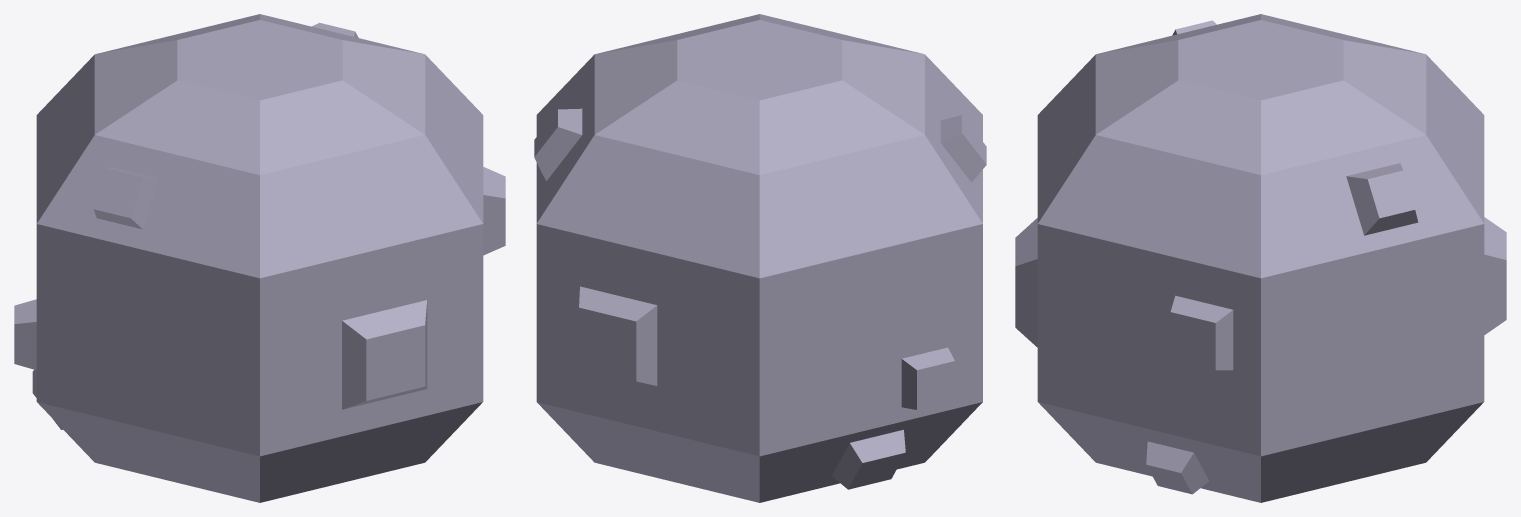
File: meteor_detailed.glb
3 views of the same model, side by side, from view 1: azimuth 30°, elevation 25°; view 2: azimuth 150°, elevation 25°; view 3: azimuth 270°, elevation 25° (orthographic).
Parts seen in each view (by area): view 1: meteor_detailed; view 2: meteor_detailed; view 3: meteor_detailed.
Boxes of the visible parts, x1,y1,x2,y2 form: meteor_detailed: [14, 14, 505, 502]; meteor_detailed: [534, 14, 986, 502]; meteor_detailed: [1015, 14, 1506, 502].
Size of the model in its own units: 0.866 by 0.735 by 0.825.
